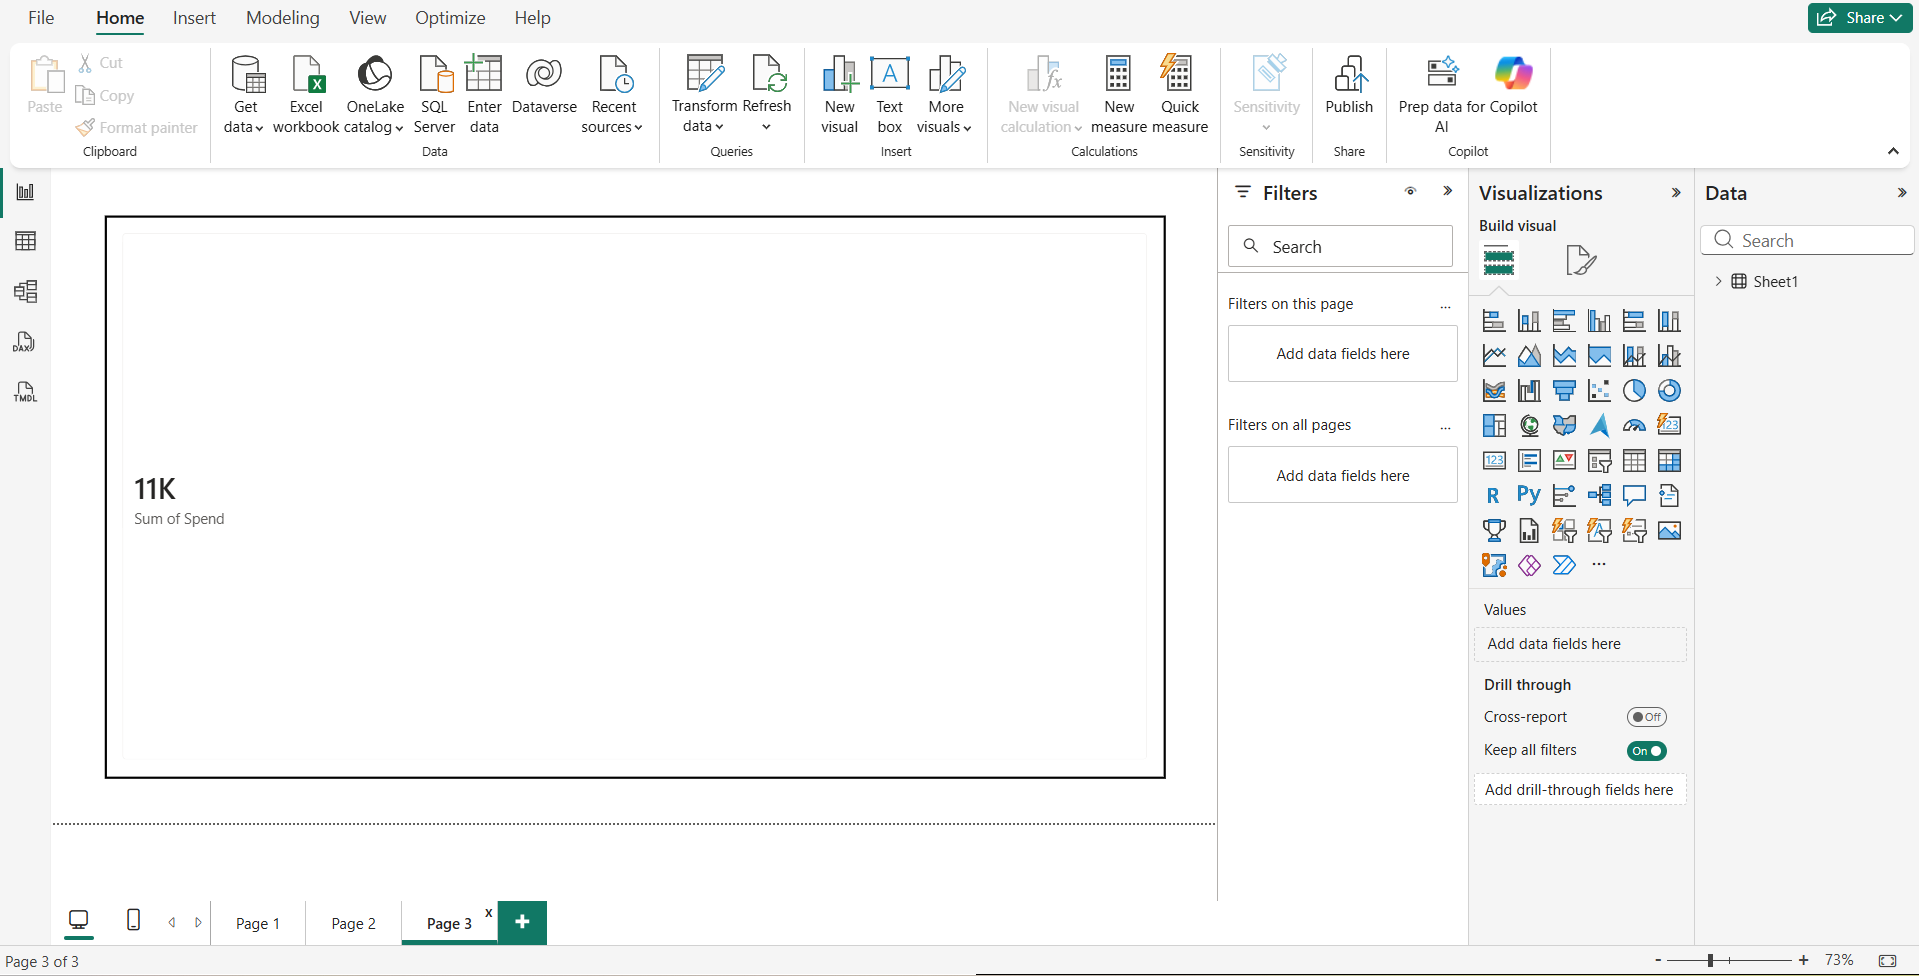

The page's visual inventory and layout, read from the dashboard file:
{"tool":"powerbi","page":{"name":"Page 3","canvas":[1280,720],"ordinal":2},"visuals":[{"type":"cardVisual","fields":{"Data":["Sum(Sheet1.         Spend)"]},"box":[58.3,51.7,1165,618.3],"z":0}]}

Visuals, with their boxes on the page's 1280x720 design canvas (x1, y1, x2, y2). These are canvas units, not pixel positions in the 1919x976 screenshot, which may show the page scaled, cropped or inside an application window:
cardVisual - Sum(Sheet1.         Spend): x1=58, y1=52, x2=1223, y2=670
